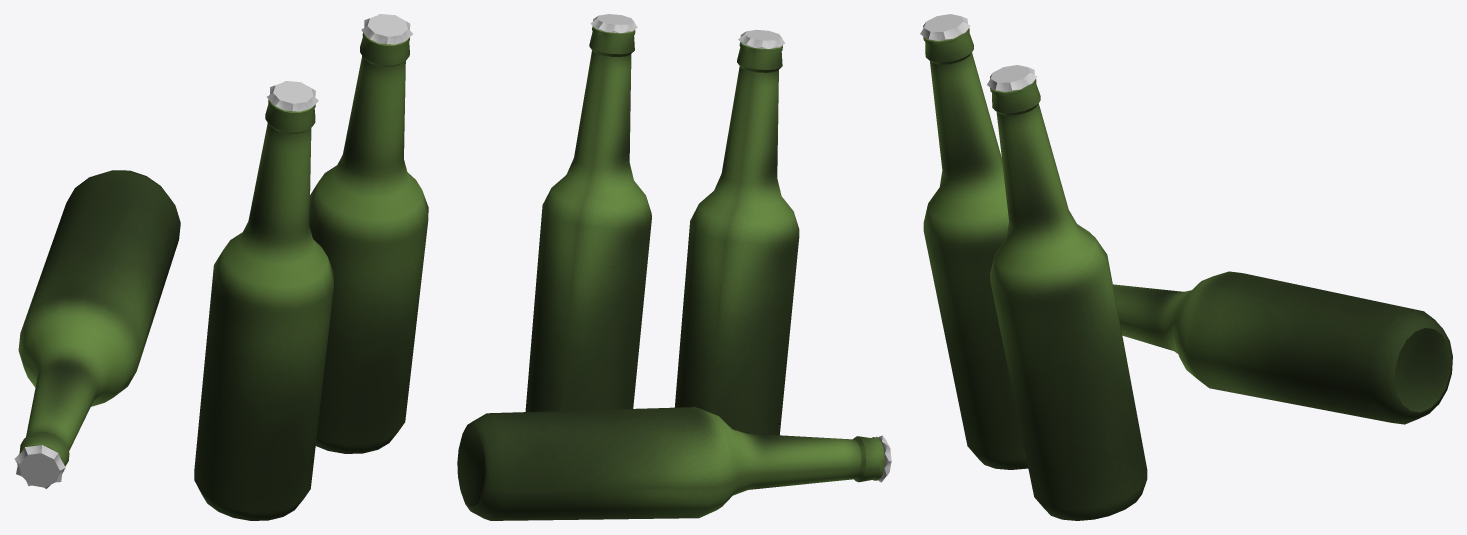
File: soju8.obj
3 views of the same model, side by side, from view 1: azimuth 30°, elevation 25°; view 2: azimuth 150°, elevation 25°; view 3: azimuth 270°, elevation 25° (orthographic). The views are drawn at different scales.
Bounding box in the file's own units: 6.48 × 7.22 × 7.79.
